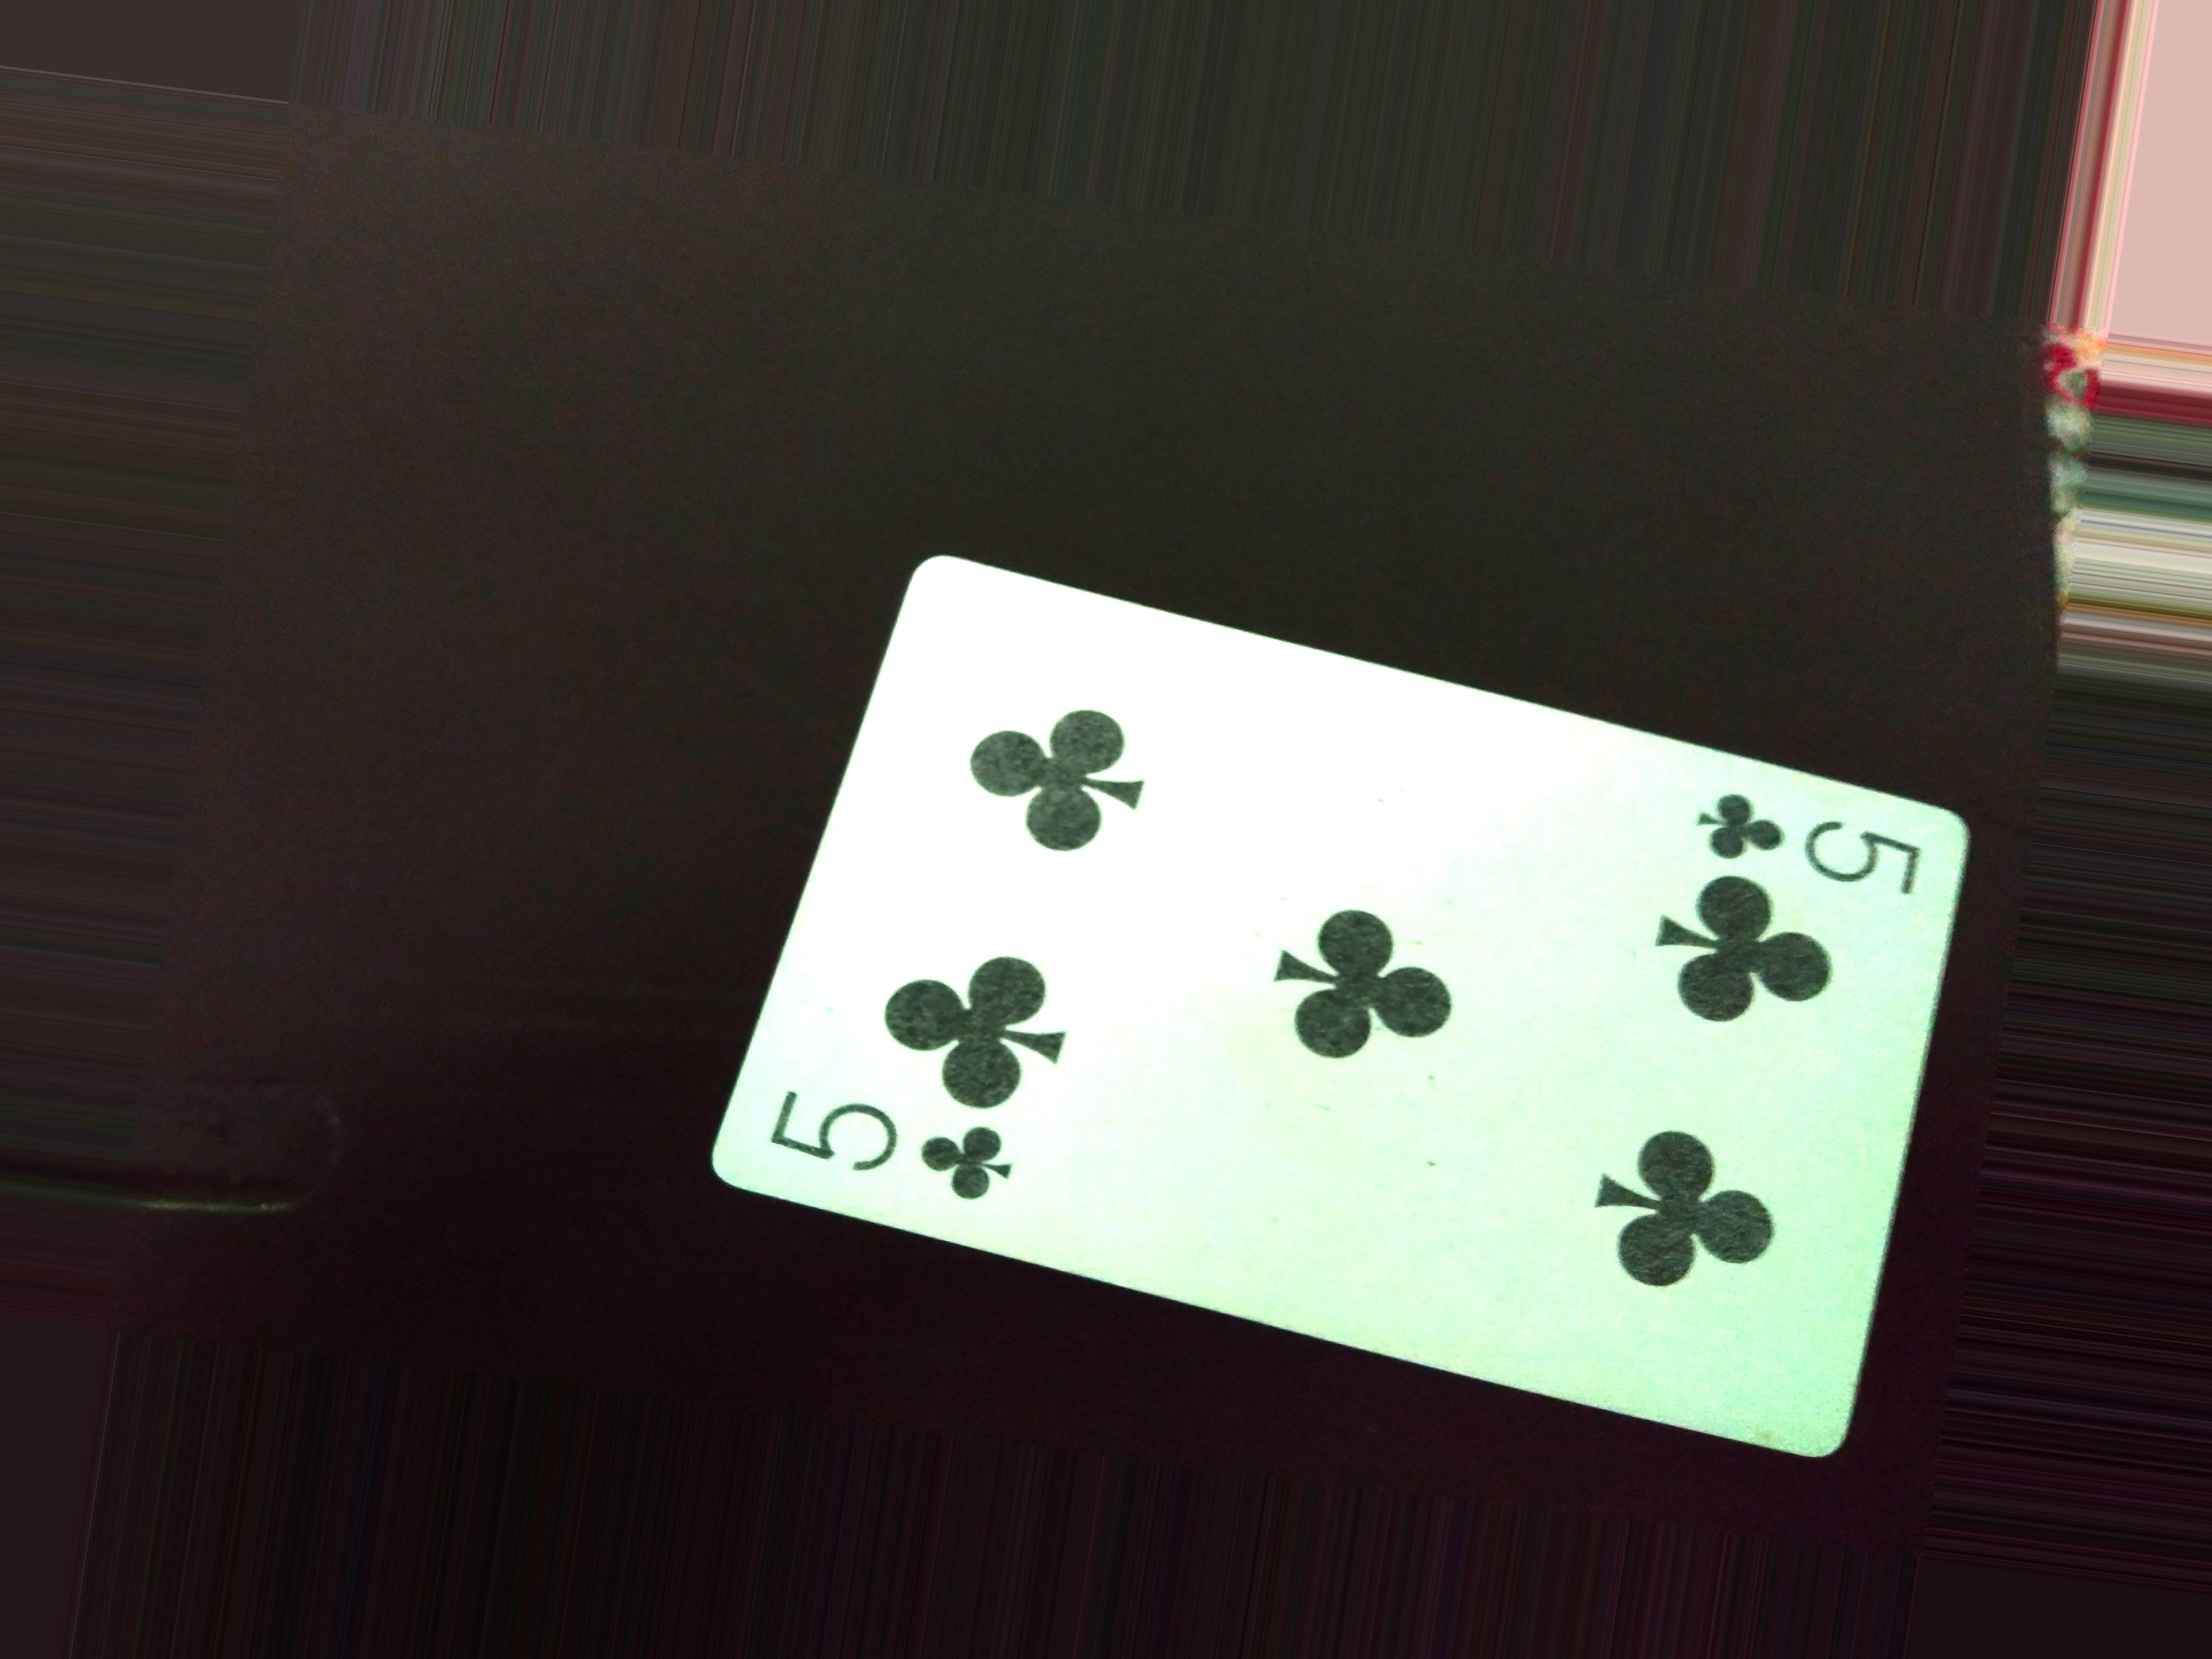5C: (738, 1079, 1019, 1199)
